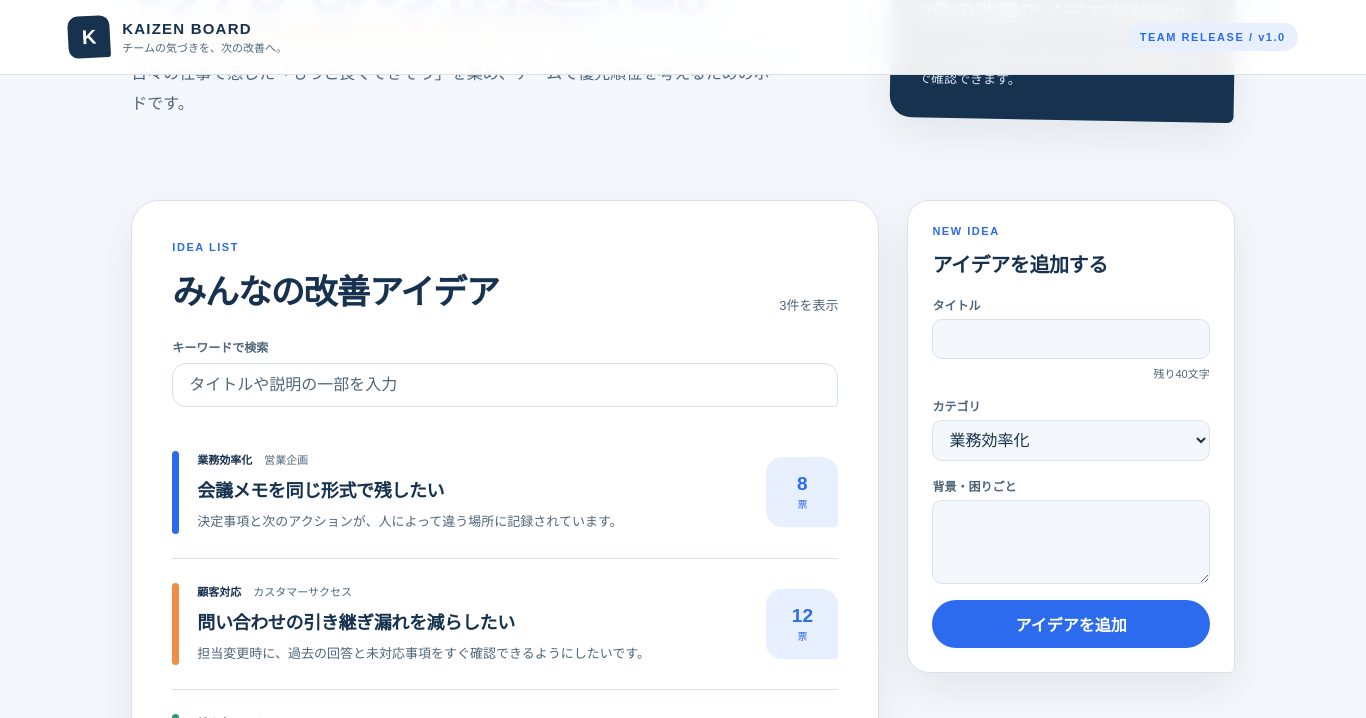
it: キーワード検索とアイデア一覧の連動 › タイトルまたは説明に一致するアイデアだけを表示する
(page scrolled)
Type "引き継ぎ" into the search field labelled "キーワードで検索" at (505, 385), box [172, 363, 838, 407]
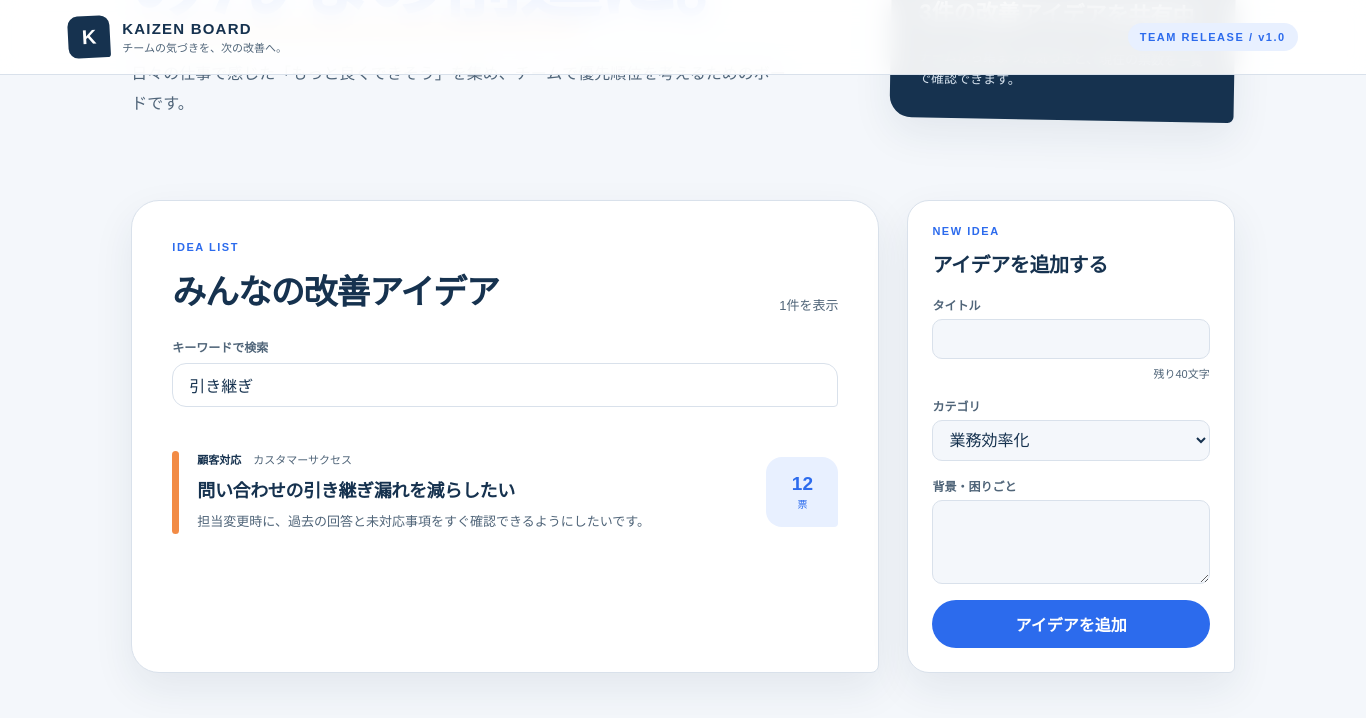
Expected: the heading "問い合わせの引き継ぎ漏れを減らしたい" is shown, [197, 481, 515, 501]
Now the heading "会議メモを同じ形式で残したい" is gone
Now the text "1件を表示" is shown, box [779, 295, 838, 314]
